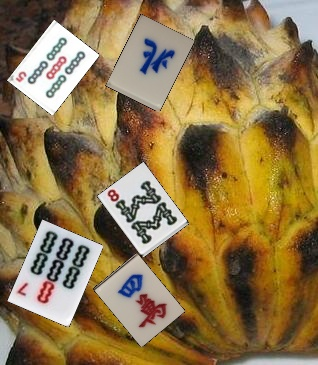bamboo-5: (6, 19, 99, 115)
bamboo-7: (7, 219, 103, 327)
bamboo-8: (97, 161, 189, 257)
characters-4: (93, 253, 185, 347)
honors-north: (105, 13, 194, 111)
